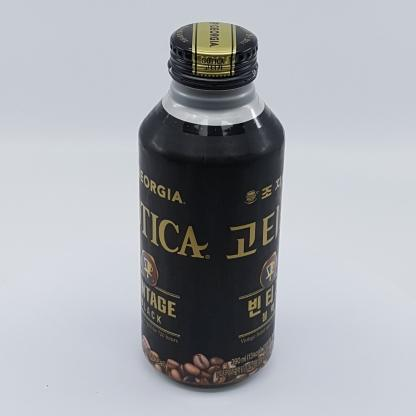-----------390ML: (138, 22, 285, 387)
